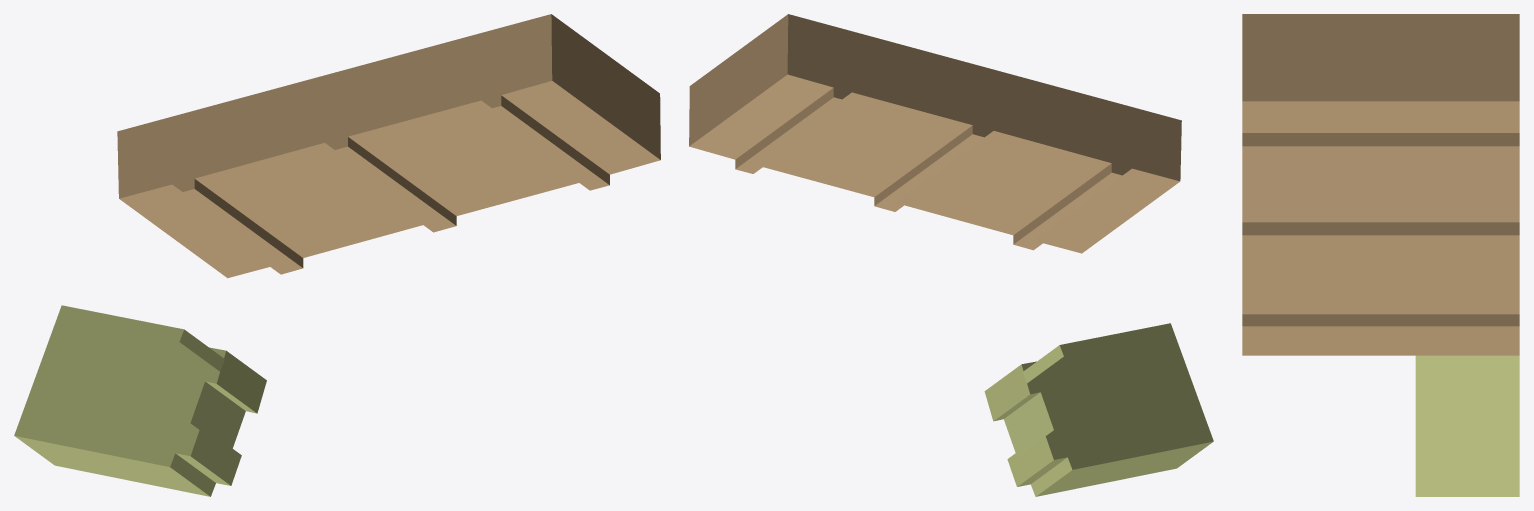
3 renders of one model, left to right at view 1: azimuth 30°, elevation 25°; view 2: azimuth 150°, elevation 25°; view 3: azimuth 270°, elevation 25°, orthographic. The views are drawn at different scales.
Parts seen in each view (by area): view 1: 0_3_0_1_1_2_3; view 2: 0_3_0_1_1_2_3; view 3: 0_3_0_1_1_2_3.
Part boxes in pixels (x1=…): 0_3_0_1_1_2_3: x1=14, y1=14, x2=660, y2=496; 0_3_0_1_1_2_3: x1=689, y1=14, x2=1213, y2=496; 0_3_0_1_1_2_3: x1=1242, y1=14, x2=1519, y2=496.
Size of the model in its own units: 68.62 by 43.88 by 24.
